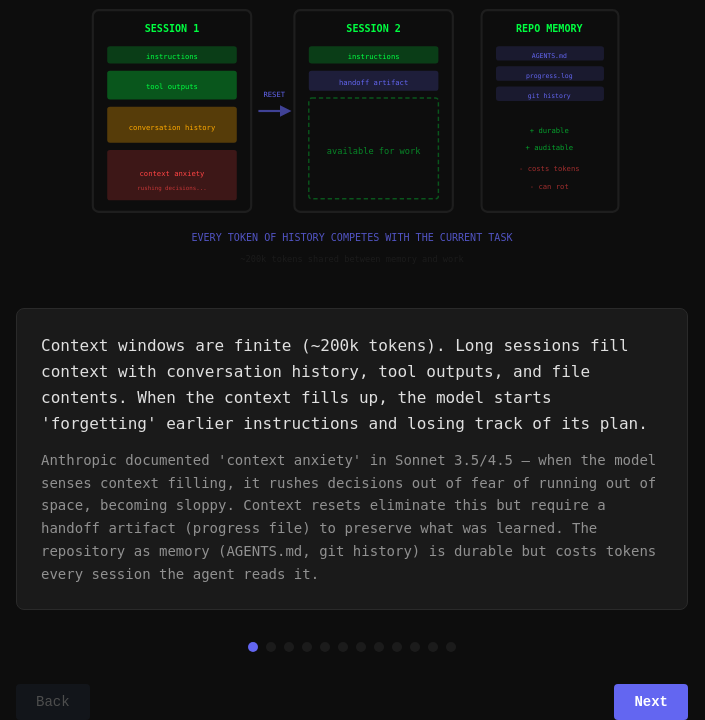
Test: HarnessDemo page › goes back on Back click
The image size is (705, 720).
(page scrolled)
Click the button "Next".
click(651, 702)  # box [614, 684, 688, 719]
(page scrolled)
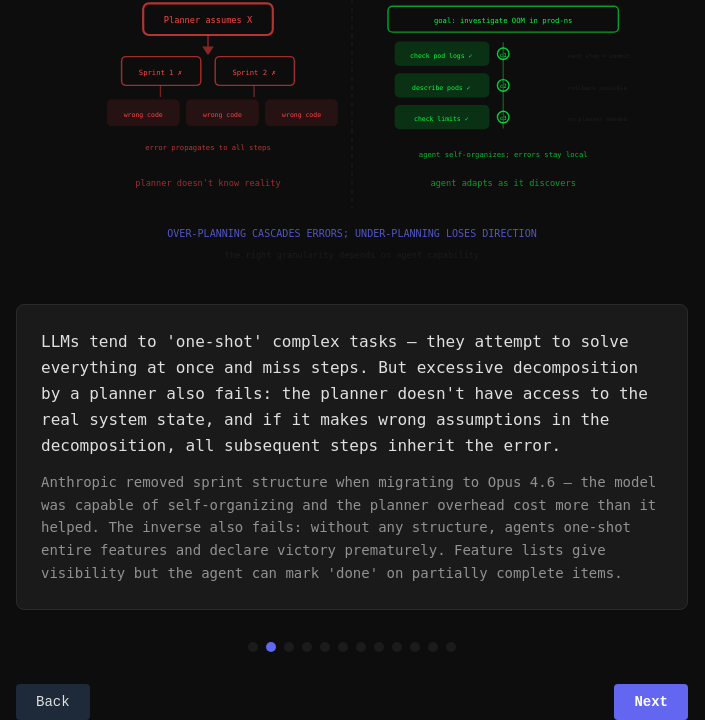
Click the button "Back".
click(53, 702)  # box [16, 684, 90, 719]
(page scrolled)
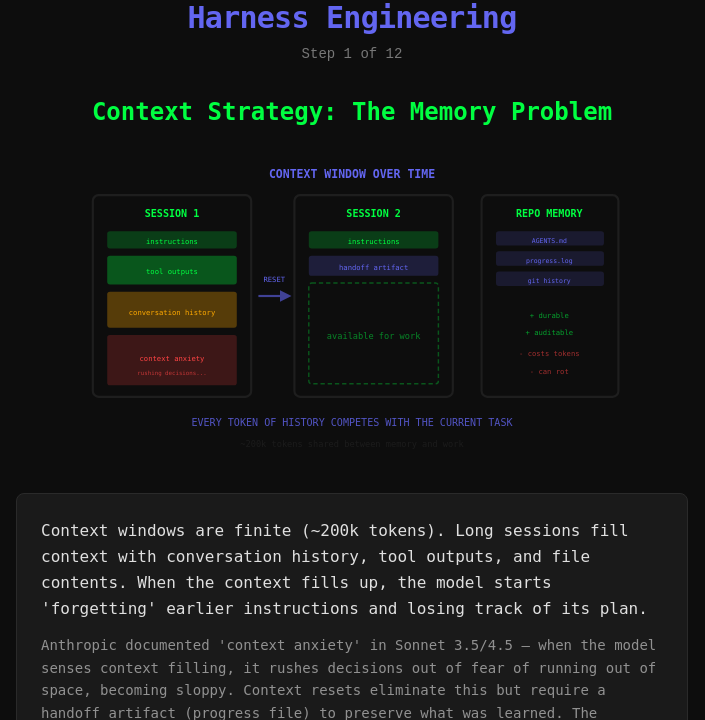
Expected: the heading "Context Strategy: The Memory Problem" is shown, [92, 98, 612, 126]
